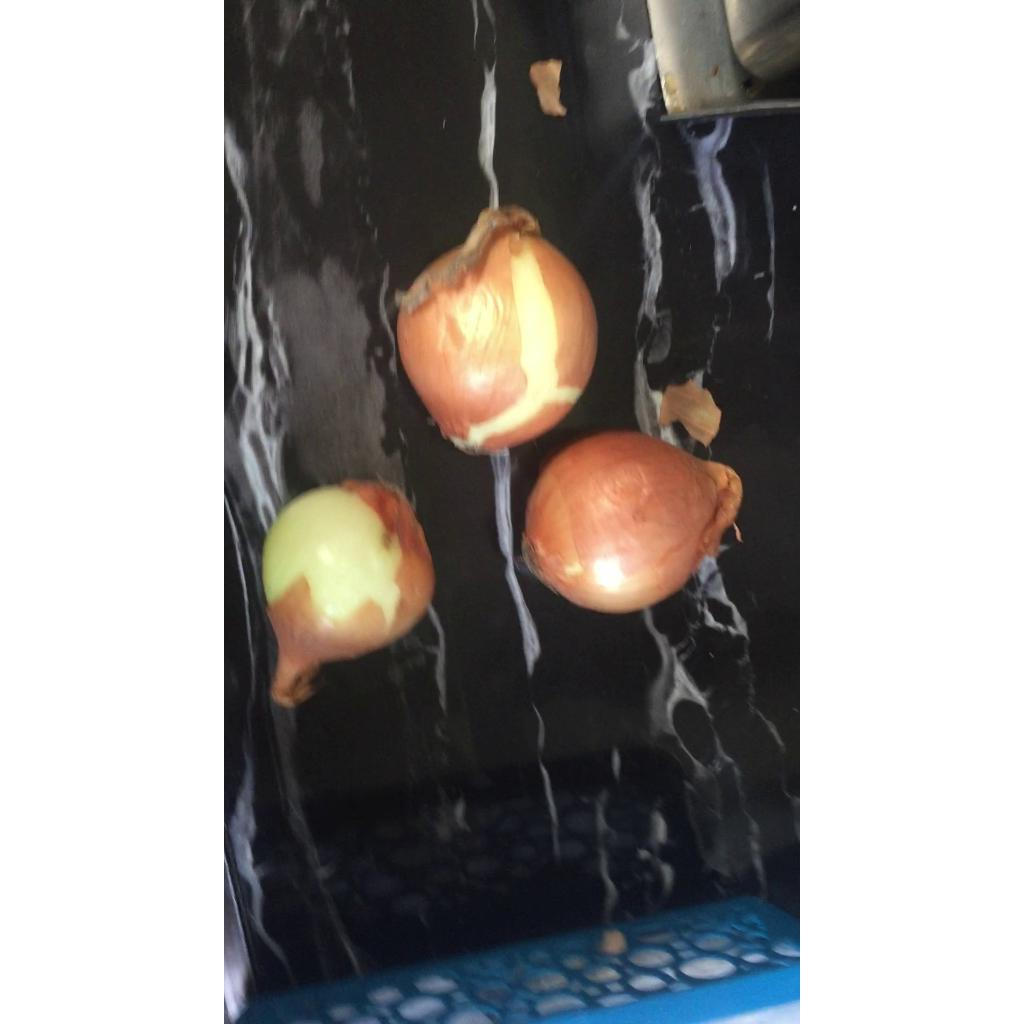Onion: (397, 205, 597, 454), (523, 431, 742, 614), (261, 481, 434, 709)
